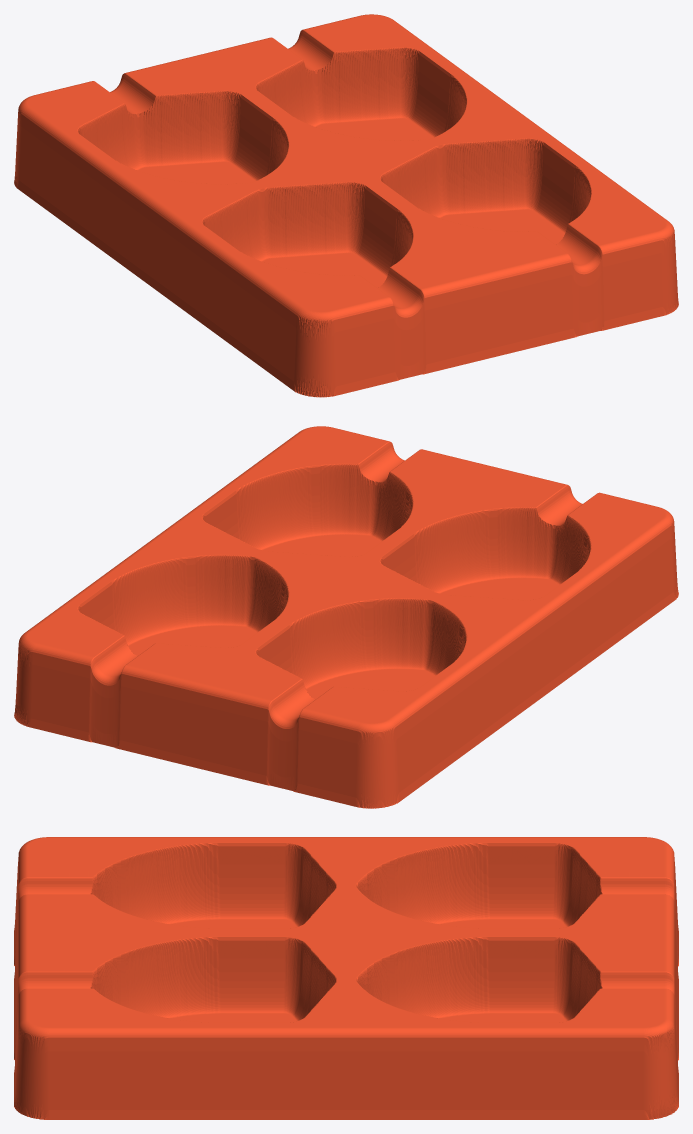
The model's file is mold.glb.
The picture shows the model from 3 angles, top to bottom: view 1: azimuth 30°, elevation 25°; view 2: azimuth 150°, elevation 25°; view 3: azimuth 270°, elevation 25°; orthographic projection. The views are drawn at different scales.
Parts seen in each view (by area): view 1: geometry_0; view 2: geometry_0; view 3: geometry_0.
Boxes of the visible parts, bbox=[...] form: geometry_0: bbox=[14, 14, 678, 397]; geometry_0: bbox=[14, 426, 678, 808]; geometry_0: bbox=[14, 837, 678, 1119].
Size of the model in its own units: 0.1226 by 0.0245 by 0.171.
